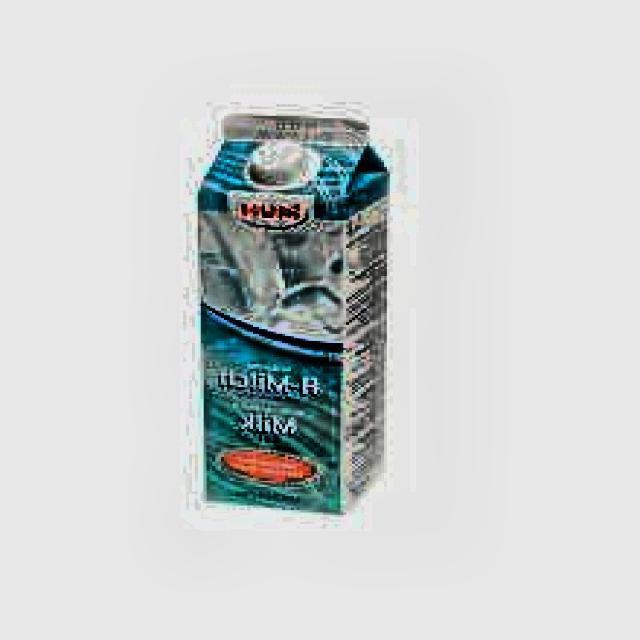cardboard: (198, 111, 393, 512)
